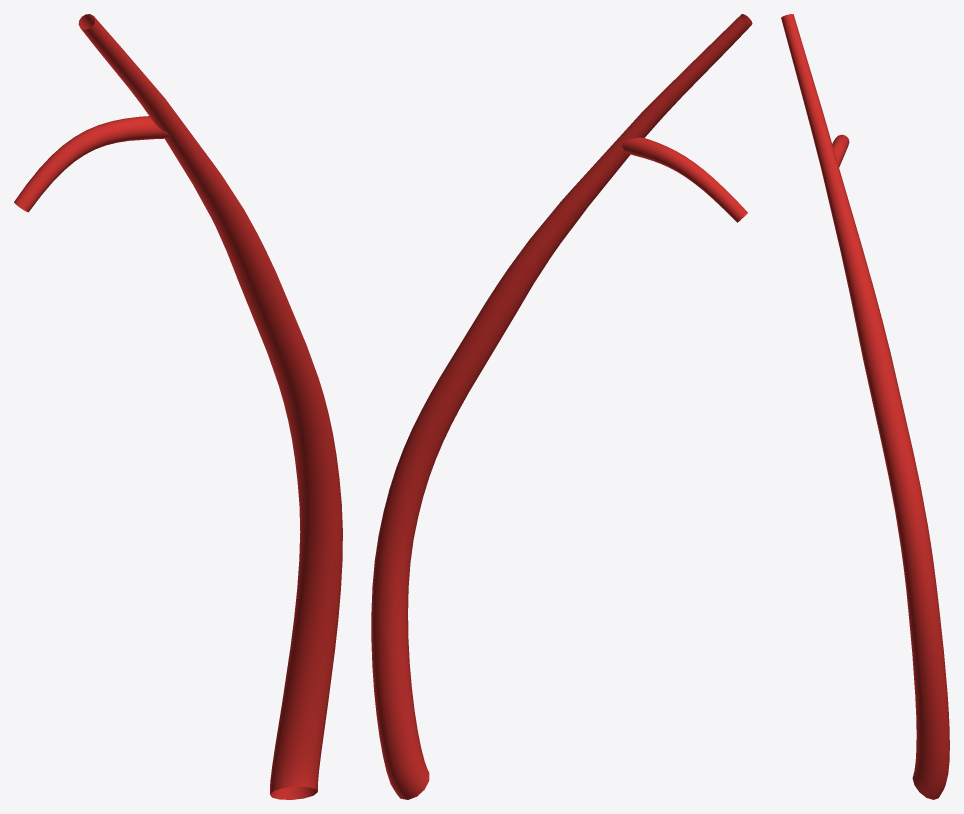
The model's file is circulatorio-inferior-thyroid-artery-l.glb.
3 renders of one model, left to right at view 1: azimuth 30°, elevation 25°; view 2: azimuth 150°, elevation 25°; view 3: azimuth 270°, elevation 25°, orthographic. The views are drawn at different scales.
Parts seen in each view (by area): view 1: Inferior thyroid artery.l; view 2: Inferior thyroid artery.l; view 3: Inferior thyroid artery.l.
Boxes of the visible parts, x1,y1,x2,y2 form: Inferior thyroid artery.l: (14,14,342,799); Inferior thyroid artery.l: (371,14,752,799); Inferior thyroid artery.l: (781,14,949,799).
Size of the model in its own units: 0.0147 by 0.0341 by 0.00772.
